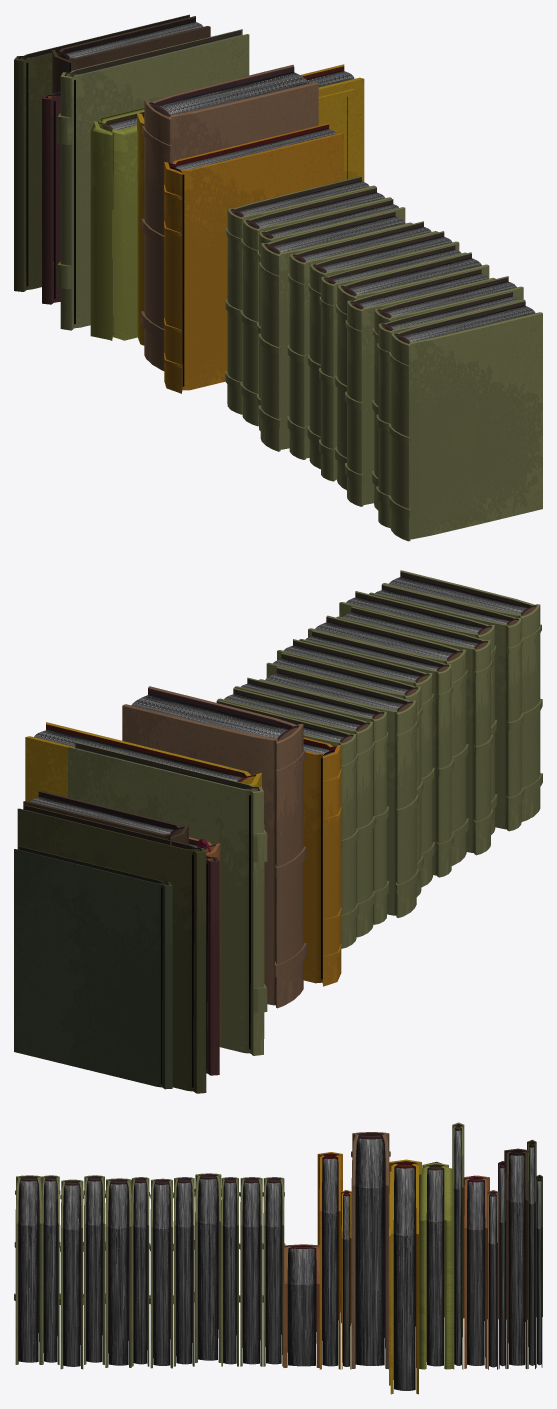
File: Shelf1.fbx
The picture shows the model from 3 angles, top to bottom: view 1: azimuth 30°, elevation 25°; view 2: azimuth 150°, elevation 25°; view 3: azimuth 270°, elevation 25°; orthographic projection. The views are drawn at different scales.
Parts seen in each view (by area): view 1: pCube1 (×3), pCube15, pCube10 (×3), pCube14, pCube71, pCube65 (×3), pCube11, pCube64 (×3), pCube67, pCube12, pages4 (×3), pCube69 (+9 smaller); view 2: pCube66, pCube14, pCube71, pCube1 (×3), pCube64 (×3), pCube67, pCube10 (×3), pCube65 (×3), pCube15, pages4 (×3), pCube12, pages2 (×3) (+10 smaller); view 3: pages4 (×3), pages2 (×3), pages1 (×3), pages5 (×3), pages13, pages14, pCube1 (×3), pCube65 (×3), pCube10 (×3), pCube11, pages11, pCube64 (×3) (+22 smaller).
Part boxes in pixels (x1,y1,x2,y2): pCube1 (×3): (258,210,542,541); pCube15: (164,123,343,393); pCube10 (×3): (225,176,495,506); pCube14: (57,29,249,330); pCube71: (141,65,318,370); pCube65 (×3): (240,187,523,510); pCube11: (90,107,144,340); pCube64 (×3): (256,199,524,528); pCube67: (14,14,189,291); pCube12: (137,64,364,345); pages4 (×3): (273,216,535,341); pCube69: (42,92,60,304); pCube66: (14,846,172,1089); pCube14: (68,742,267,1055); pCube71: (122,686,306,1008); pCube1 (×3): (258,570,542,917); pCube64 (×3): (234,584,523,924); pCube67: (17,804,206,1093); pCube10 (×3): (216,606,493,948); pCube65 (×3): (217,591,497,937); pCube15: (303,737,341,986); pages4 (×3): (265,576,527,709); pCube12: (25,722,261,801); pages2 (×3): (224,596,482,729); pages4 (×3): (18,1179,217,1365); pages2 (×3): (63,1182,259,1366); pages1 (×3): (86,1181,281,1364); pages5 (×3): (44,1181,236,1364); pages13: (356,1138,384,1365); pages14: (394,1168,415,1390); pCube1 (×3): (14,1173,221,1367); pCube65 (×3): (59,1177,263,1369); pCube10 (×3): (83,1175,285,1366); pCube11: (419,1161,453,1369); pages11: (322,1158,338,1366); pCube64 (×3): (42,1175,239,1366).
Bounding box in the file's own units: 1.09 × 1.07 × 2.66.
